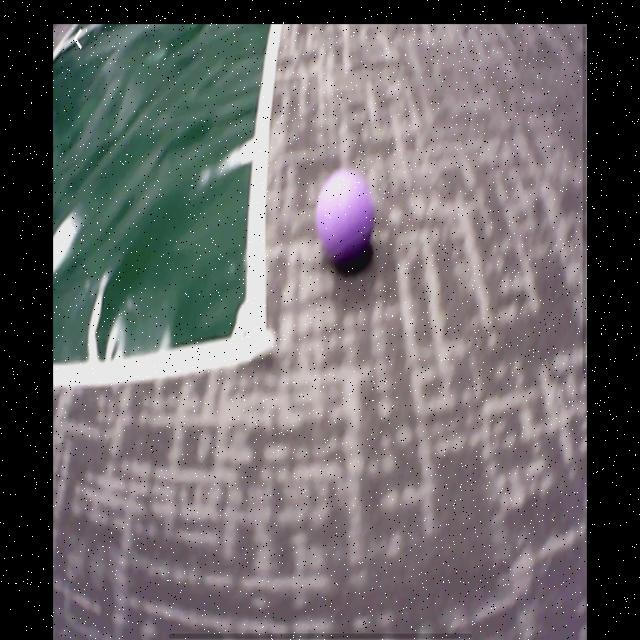ball: (317, 175, 377, 265)
